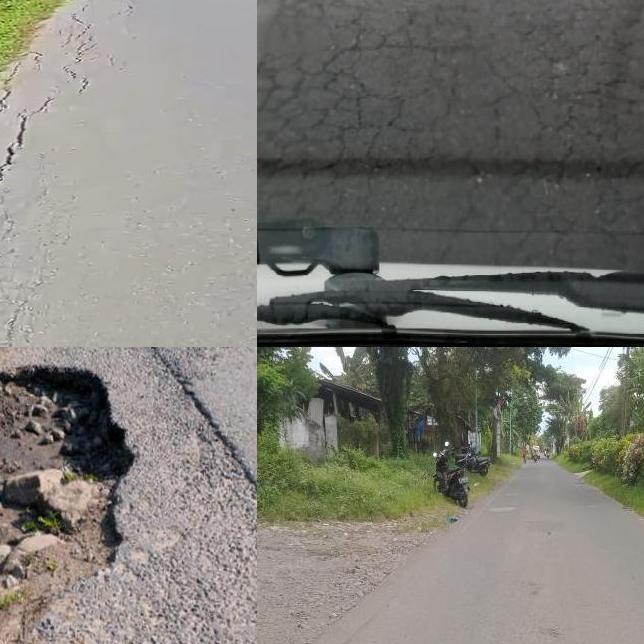Pinggir: (0, 347, 158, 644)
Retak Buaya: (257, 0, 644, 230)
